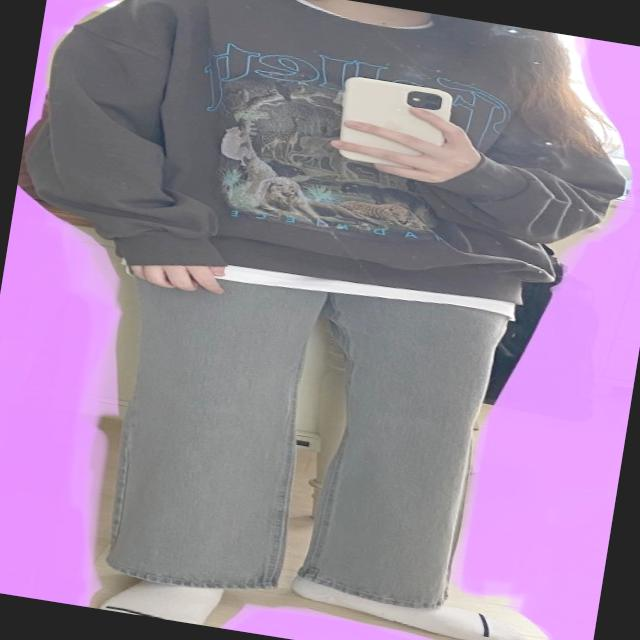denimpants: (88, 253, 514, 636)
mtm: (9, 0, 640, 335)
